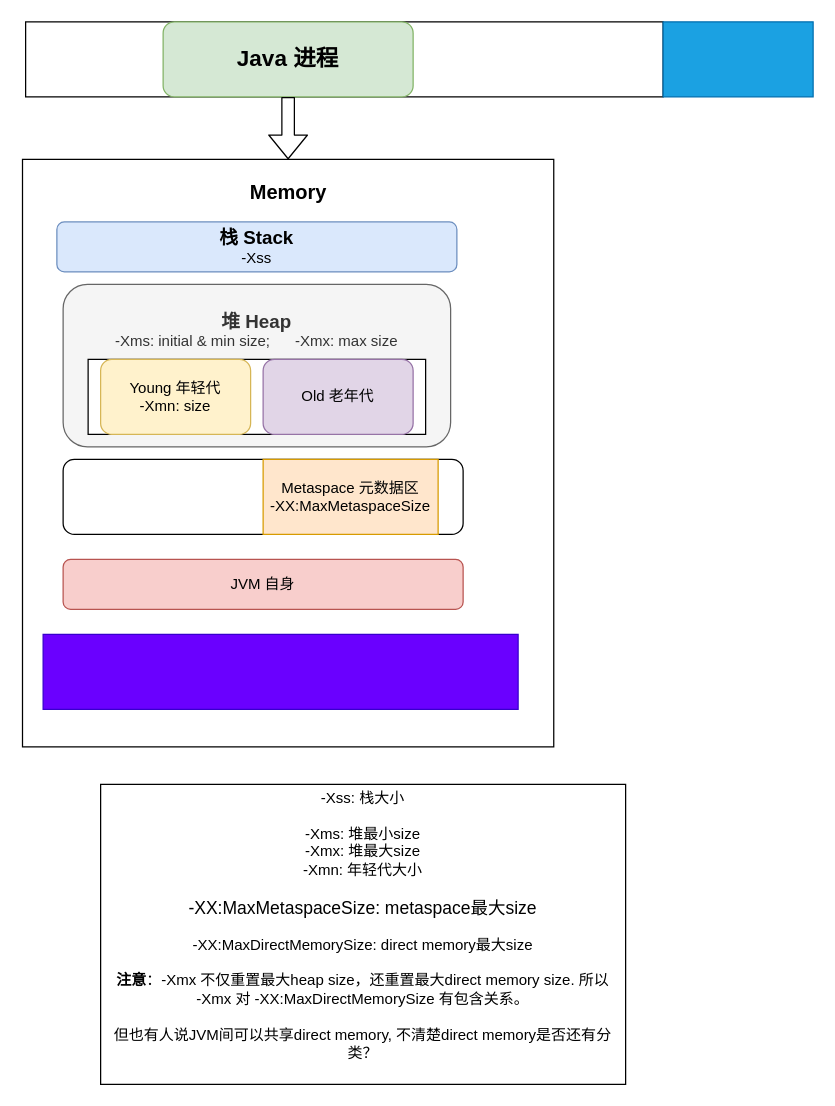
Some shapes in this 835 by 1106 pixel diagram are drawn without their labels. Here are the shapes that lost their labels. From the top down, the box of each, then its label:
(24, 21, 663, 97): 其他进程...
(662, 21, 813, 97): OS
(62, 458, 463, 534): non-heap 非堆
(42, 633, 518, 709): Direct/Native Memory -XX:MaxDirectMemorySize
